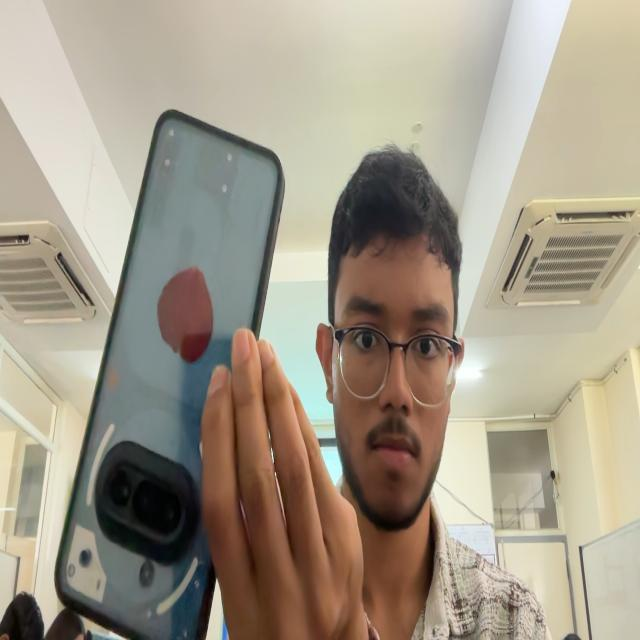Useful: (54, 110, 284, 639)
